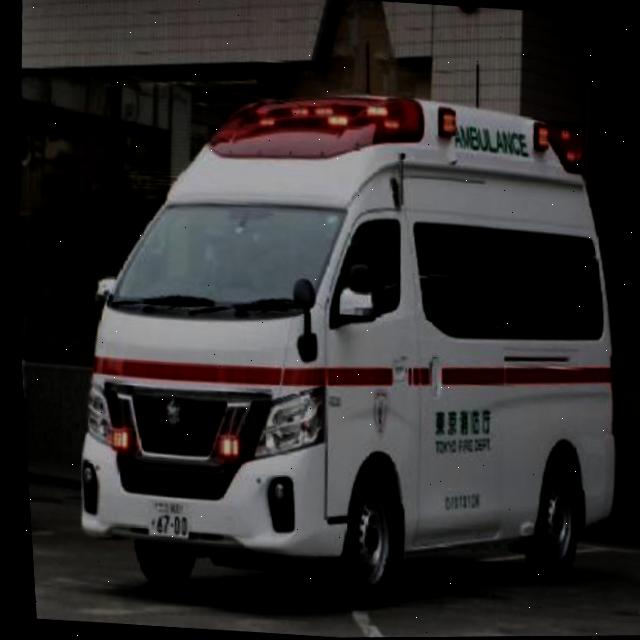emergency: (46, 71, 640, 620)
